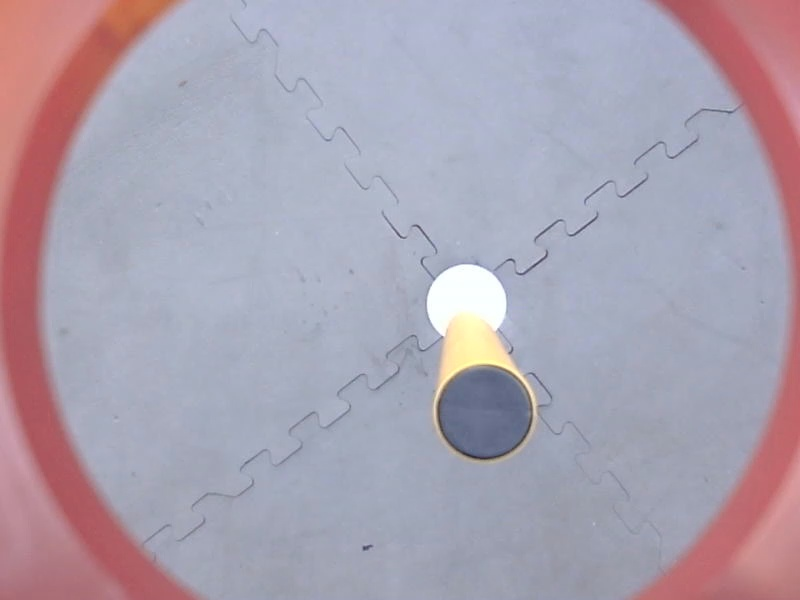tip: (425, 357, 544, 469)
